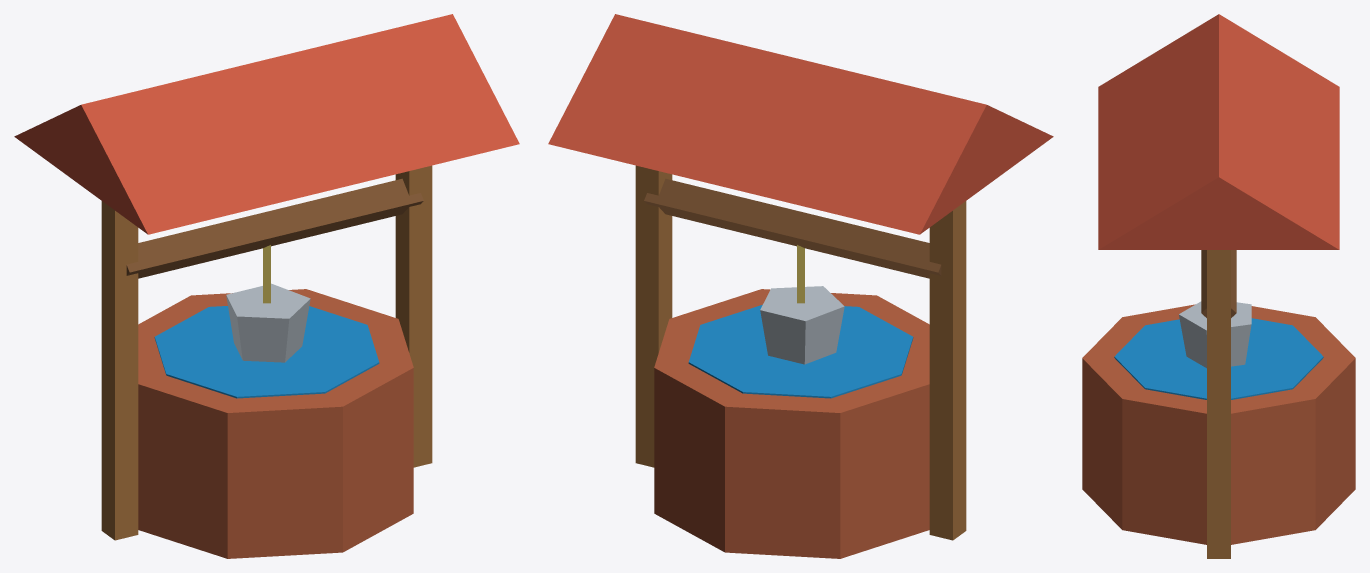
The model's file is poco_caipira.glb.
3 renders of one model, left to right at view 1: azimuth 30°, elevation 25°; view 2: azimuth 150°, elevation 25°; view 3: azimuth 270°, elevation 25°, orthographic. The views are drawn at different scales.
Visible parts, largest first — view 1: corpo; view 2: corpo; view 3: corpo.
Part boxes in pixels (bbox=[...]): corpo: bbox=[14, 14, 519, 558]; corpo: bbox=[548, 14, 1053, 558]; corpo: bbox=[1082, 14, 1355, 558].
Bounding box in the file's own units: 0.48 × 0.54 × 0.34.
